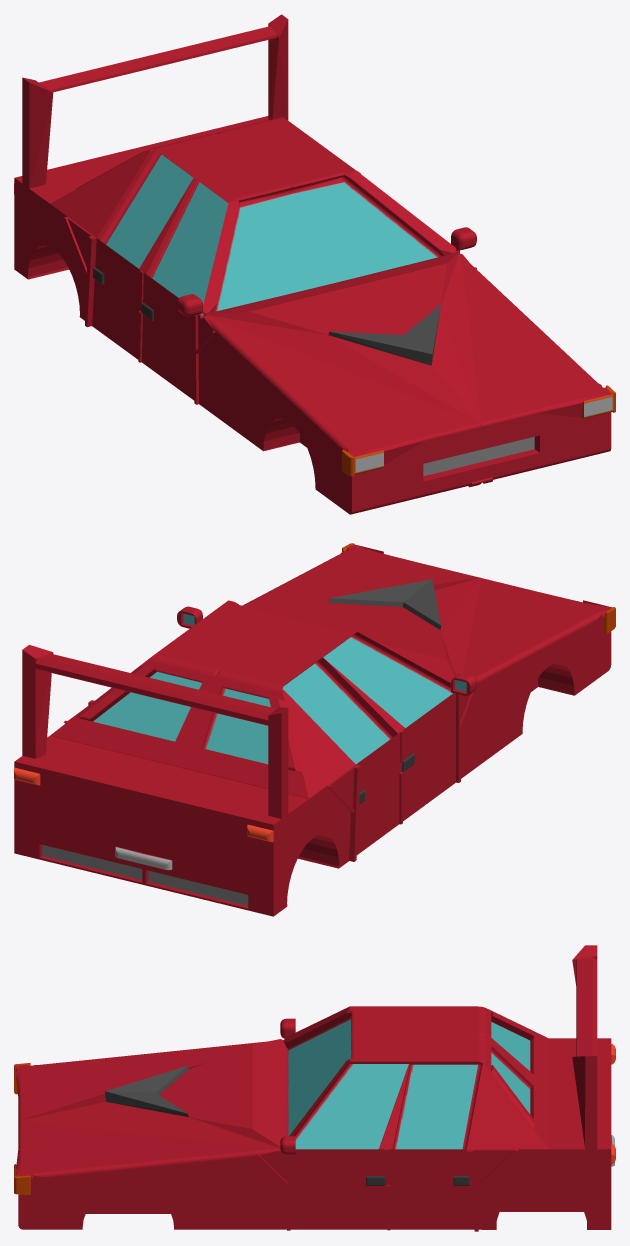
File: carBody.fbx
The picture shows the model from 3 angles, top to bottom: view 1: azimuth 30°, elevation 25°; view 2: azimuth 150°, elevation 25°; view 3: azimuth 270°, elevation 25°; orthographic projection. The views are drawn at different scales.
Visible parts, largest first — view 1: Car Body; view 2: Car Body; view 3: Car Body.
Boxes of the visible parts, bbox=[...] form: Car Body: bbox=[14, 14, 615, 514]; Car Body: bbox=[14, 543, 615, 916]; Car Body: bbox=[14, 945, 615, 1231].
Size of the model in its own units: 3.36 by 2.17 by 6.81.
Materials: 1 (1 with a texture image).
